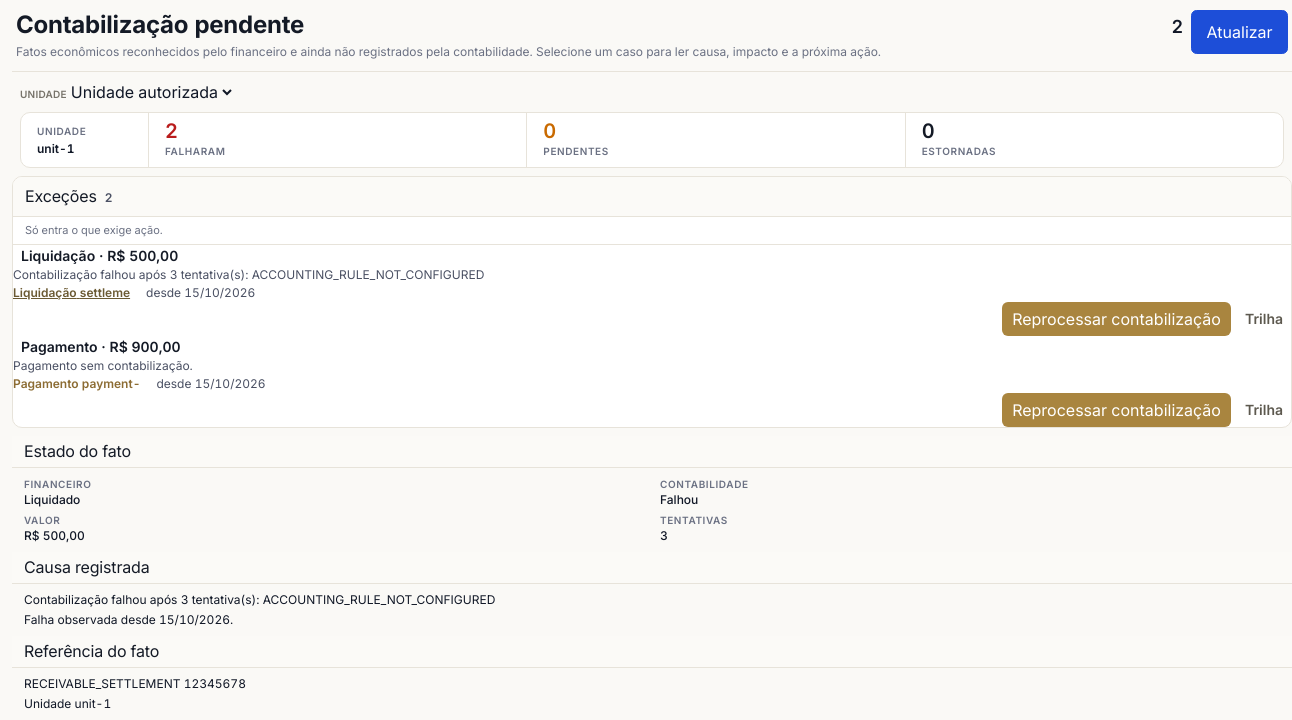
Scenario: F1.1 — Workbench: floorplan de resolução › seleciona outro caso da fila no centro
This screenshot has width=1292, height=720.
Expected: the element named "Fila de resolução" is shown, [12,176,1291,428]
Click the button titled "Abrir este caso no centro". click: click(77, 384)
box: [13,376,140,392]
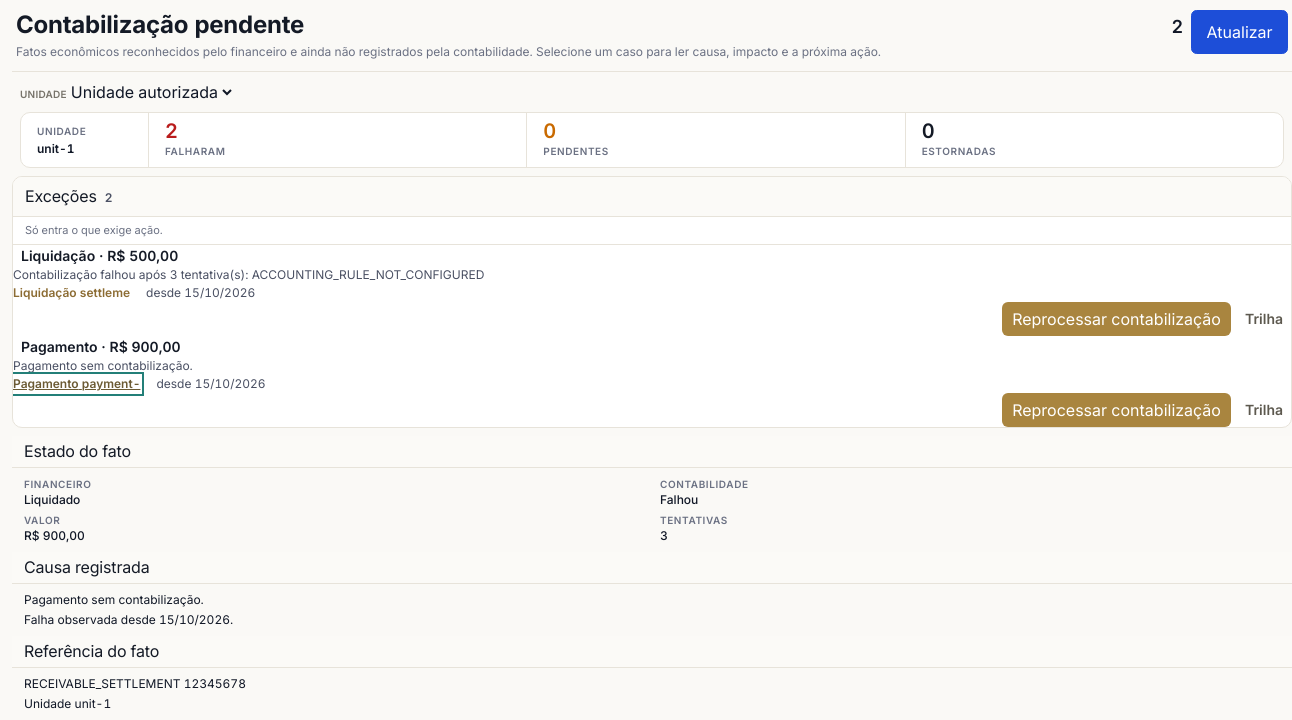
Result: the text "R$ 900,00" is shown at [24,528,85,543]
